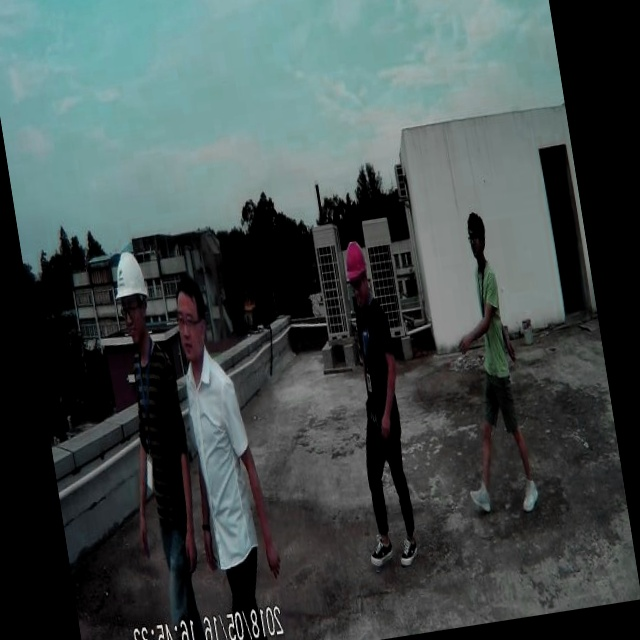Con_Casco: (109, 248, 155, 347), (341, 240, 372, 301)
Sin_Casco_Mascarrilla: (169, 269, 212, 365)
Sin_Chaleco: (178, 357, 261, 563), (126, 344, 201, 549)
